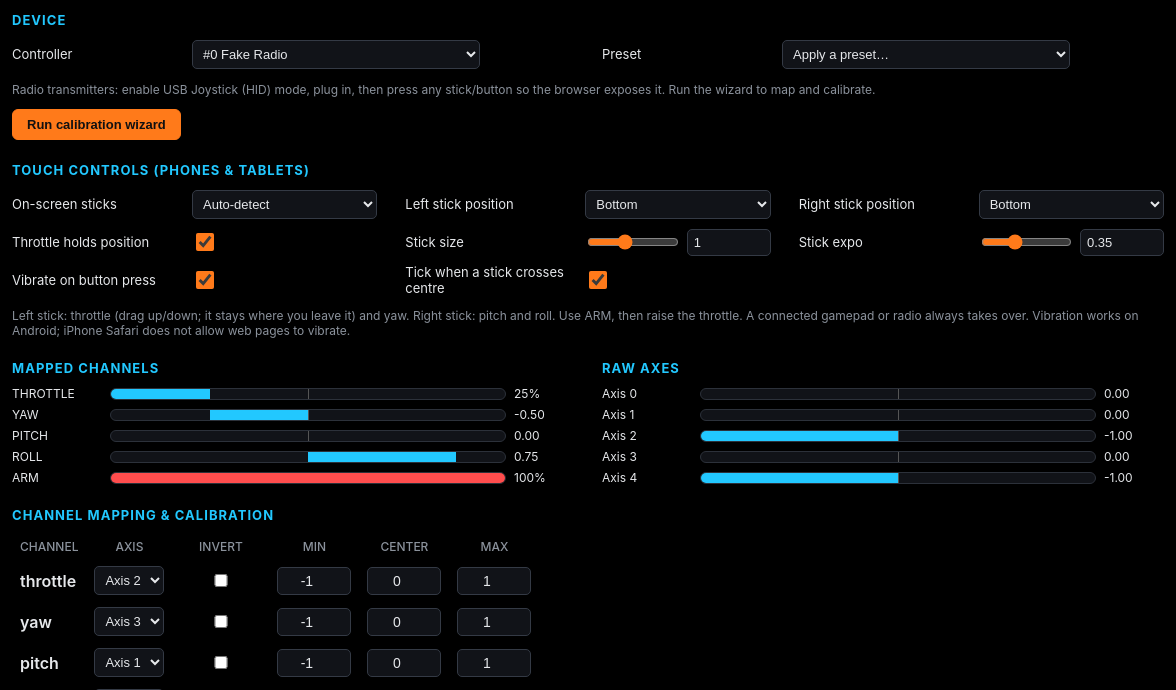
it: Controller tab › warns when a step sees no movement
The width and height of the screenshot is (1176, 690).
Click the button "Run calibration wizard".
click(96, 124)  # box 12,109 -> 181,140
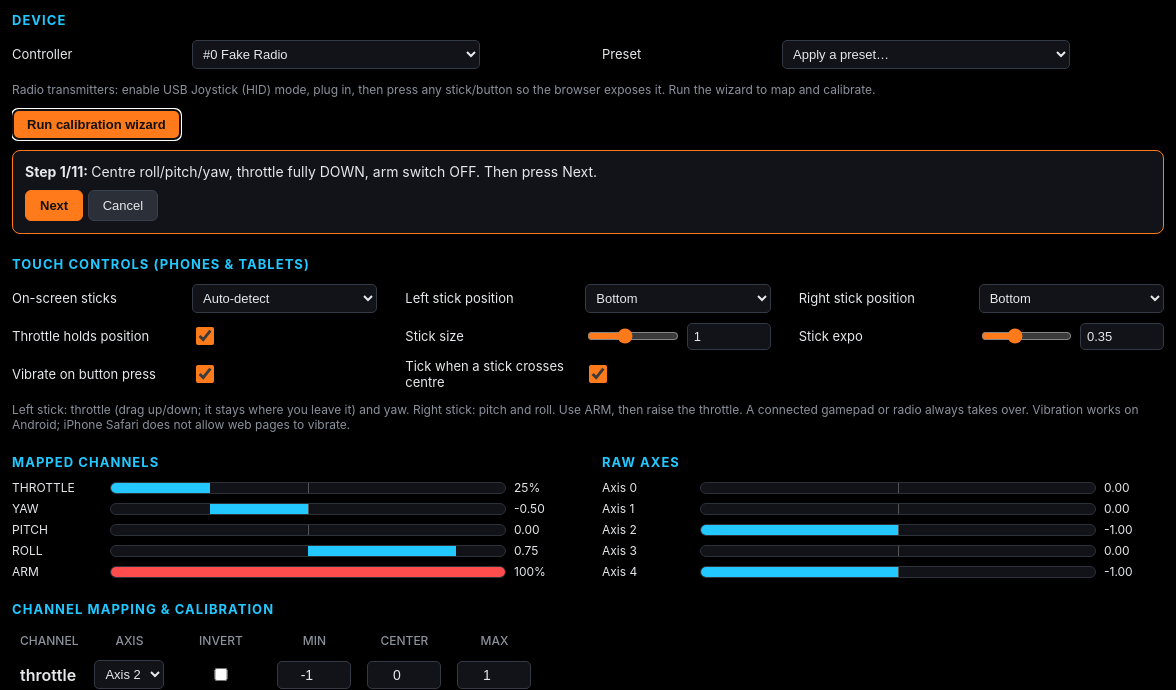
Click the button "Next".
click(54, 206)  # box 25,190 -> 83,221
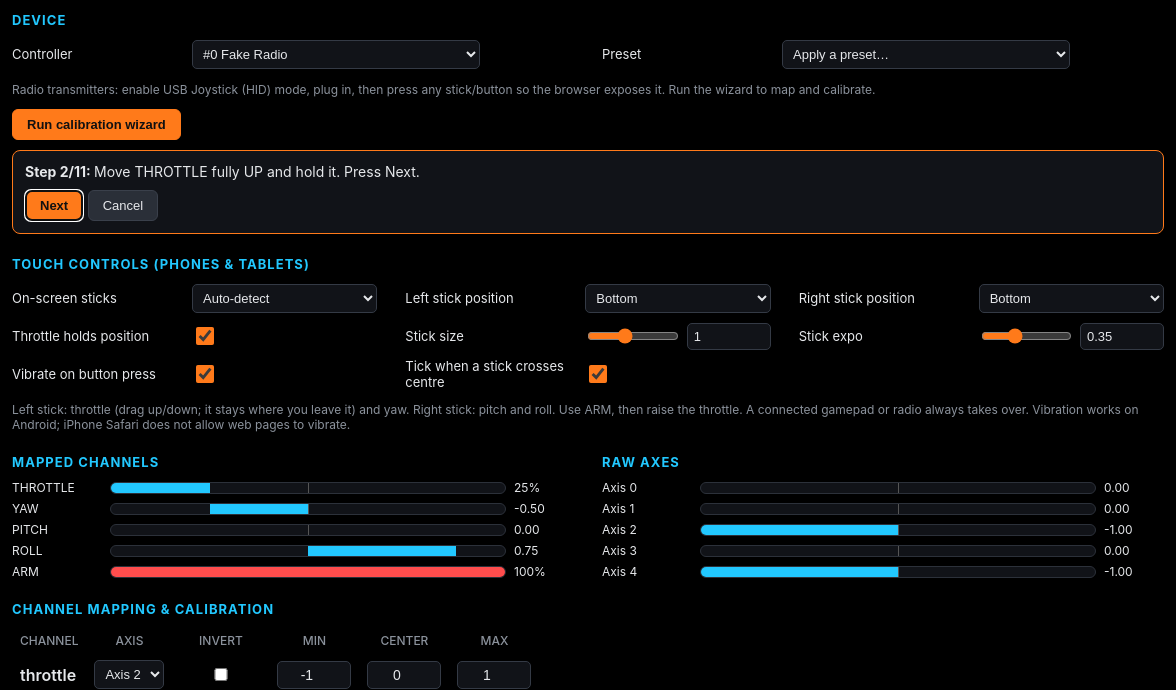
Click the button "Next".
click(54, 206)  # box 25,190 -> 83,221
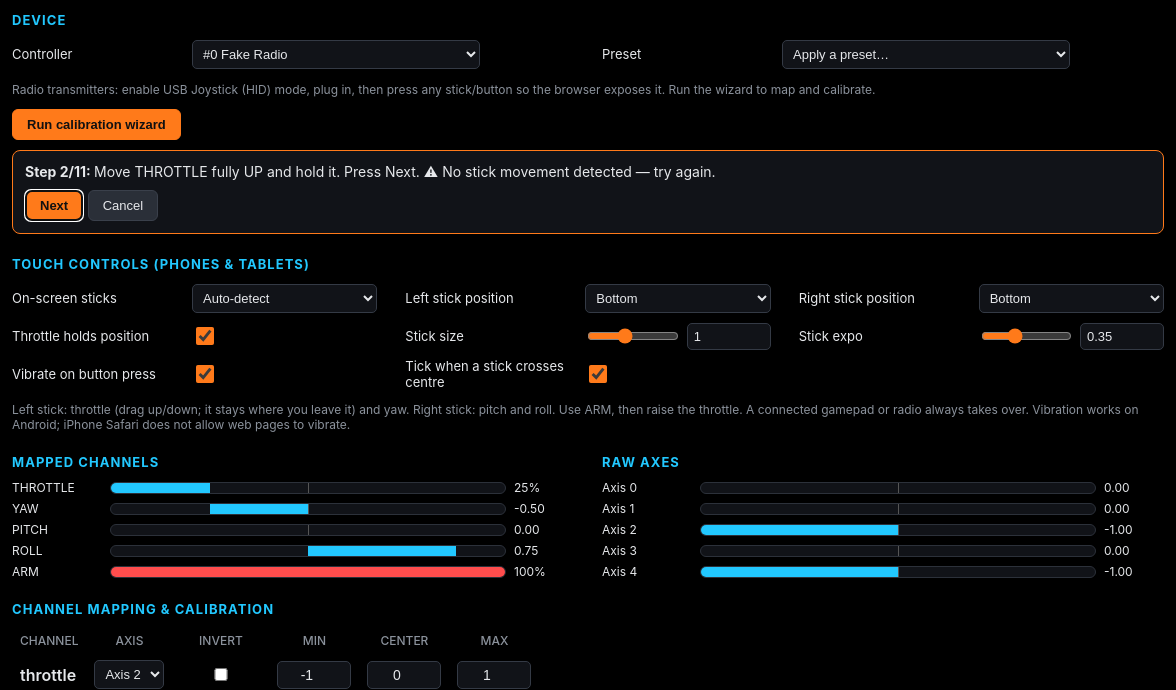
expect the element with test id "wizard" shows "No stick movement detected": met, box 442,163 -> 716,180
Click the button "Cancel".
click(123, 206)  # box 88,190 -> 158,221
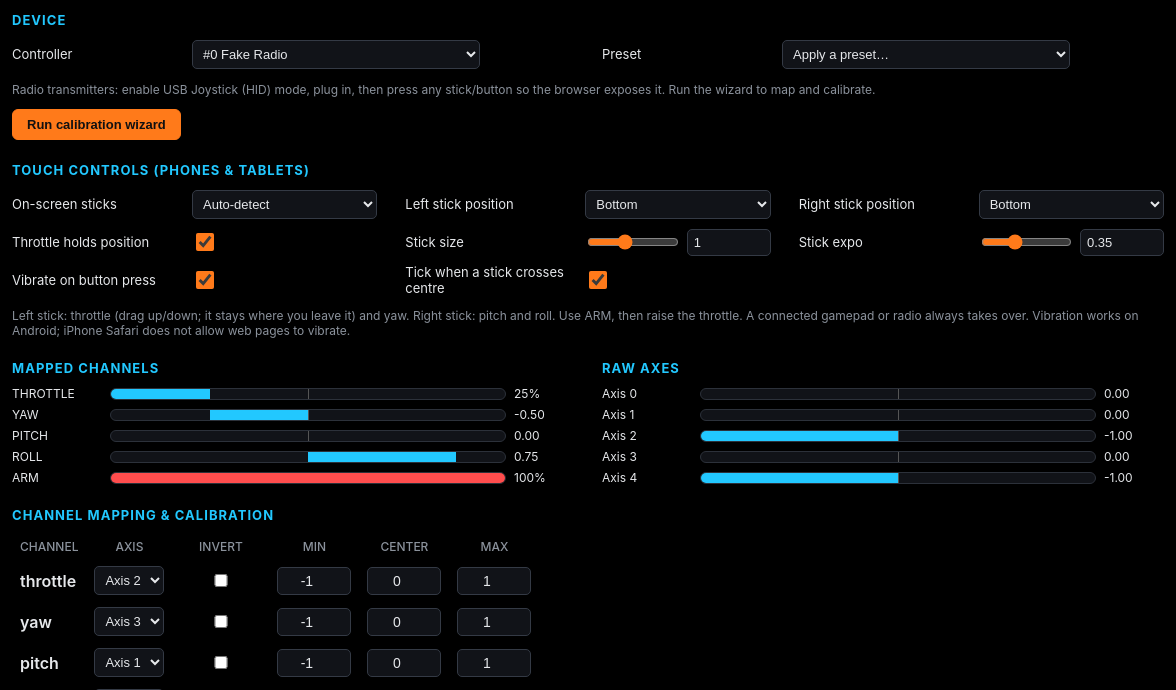
expect the element with test id "wizard" is gone: met
